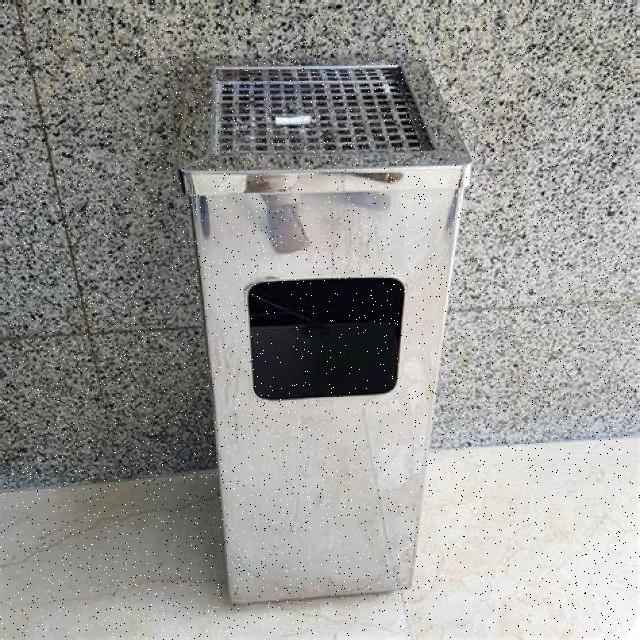garbage container: (173, 41, 484, 610)
